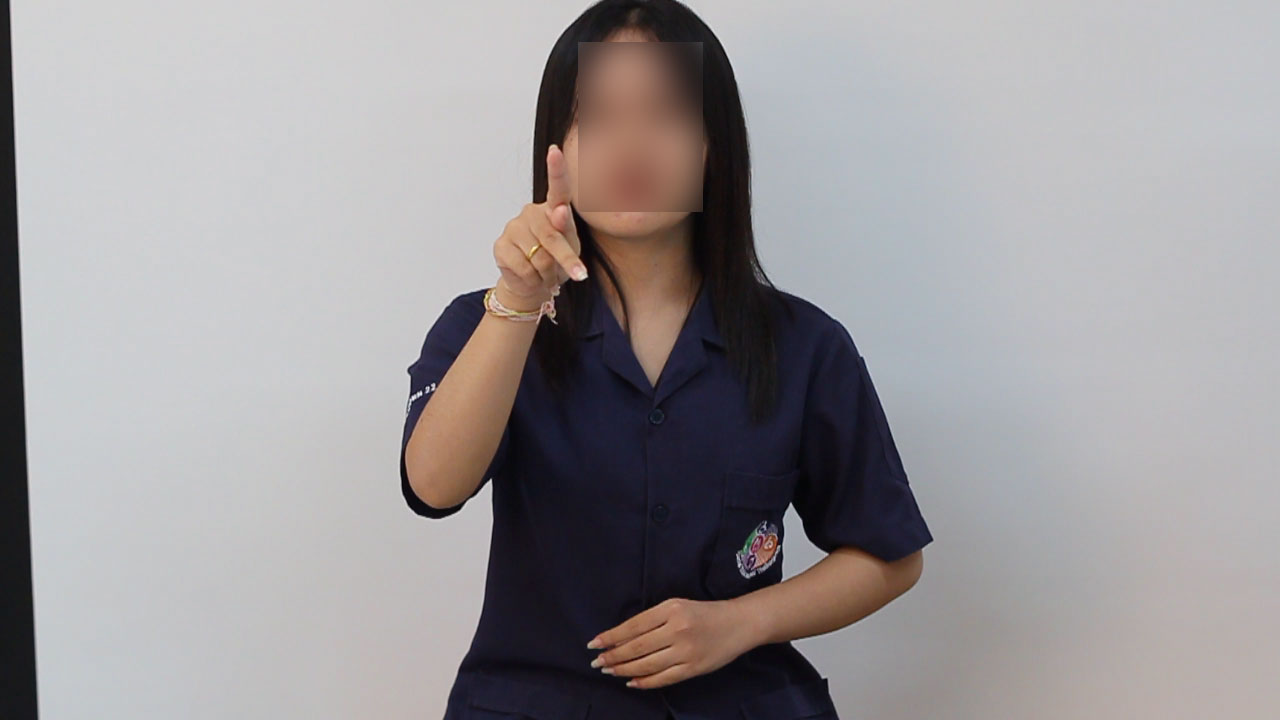por: (476, 136, 599, 315)
